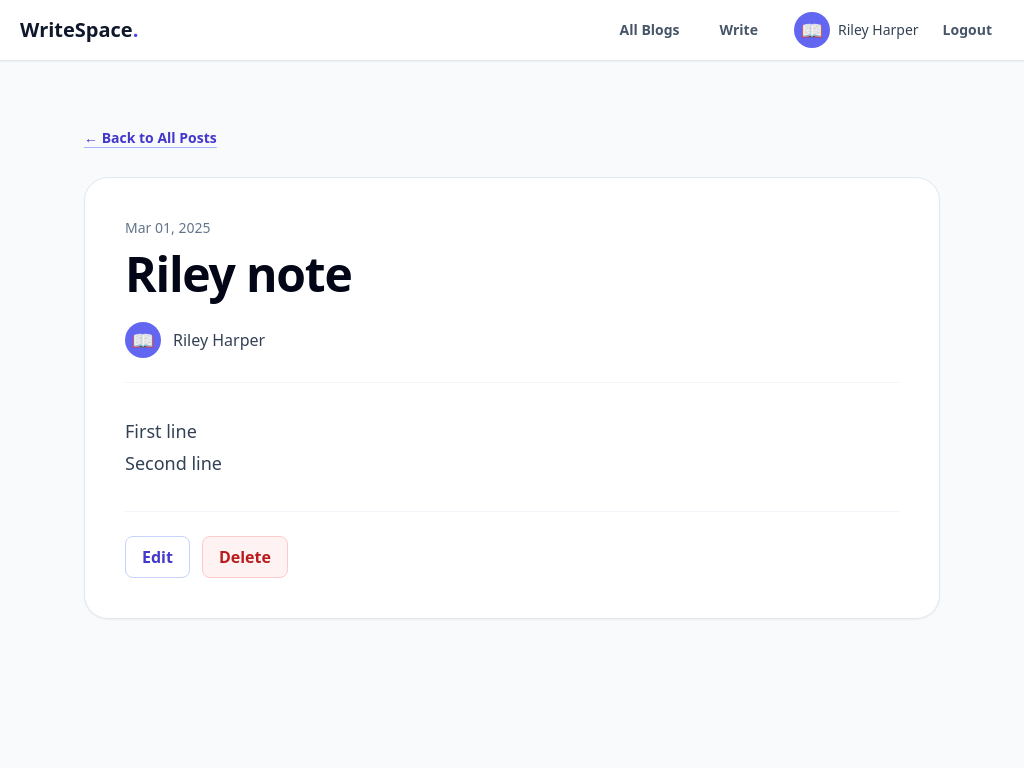
it: writer blog pages › confirms delete before removing an owned post
The width and height of the screenshot is (1024, 768).
Click the button "Delete" at (245, 557), box [202,536,288,578]
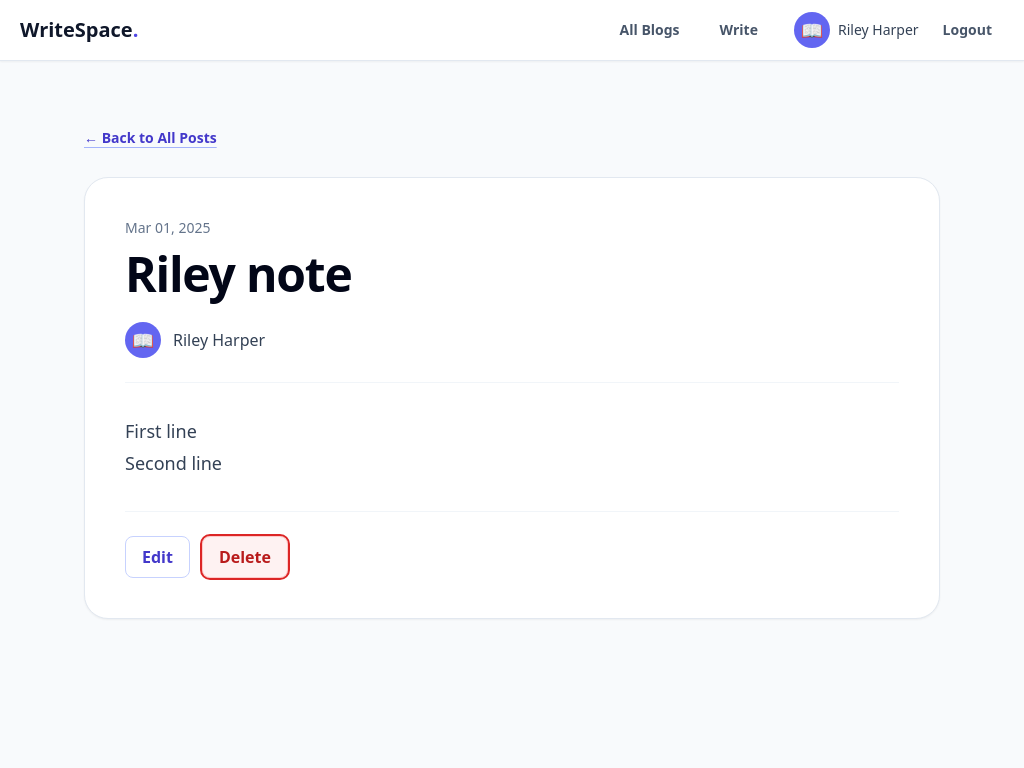
Click the button "Delete" at (245, 557), box [202,536,288,578]
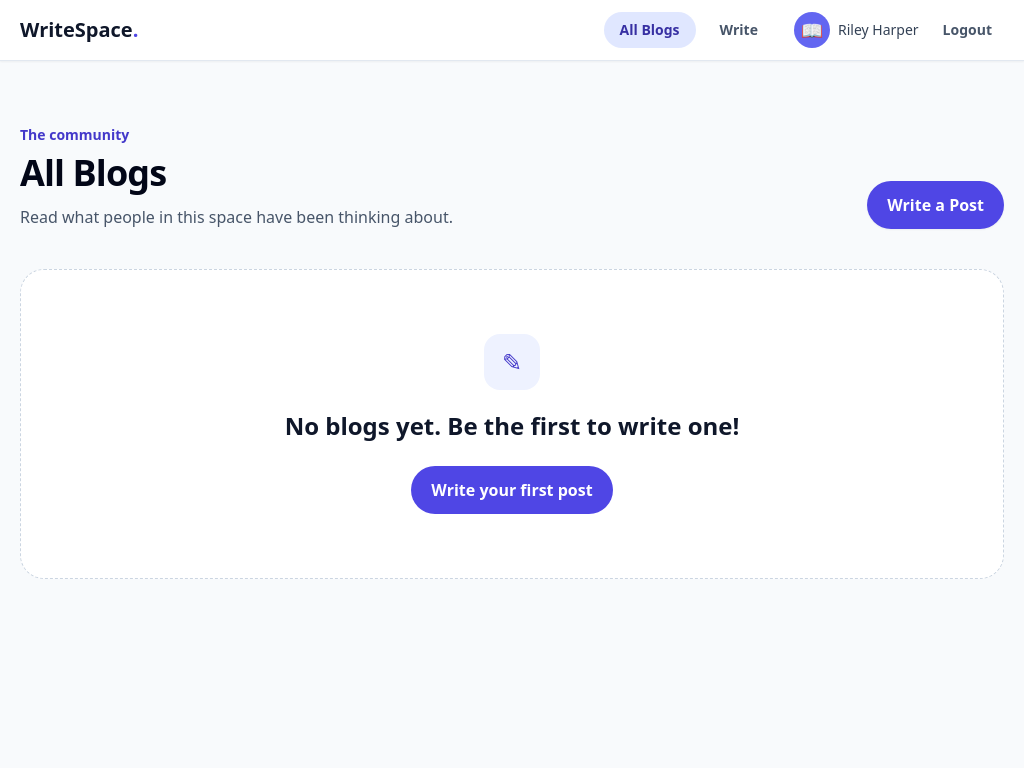
Expected: the heading "All Blogs" is shown, [20,148,166,197]
